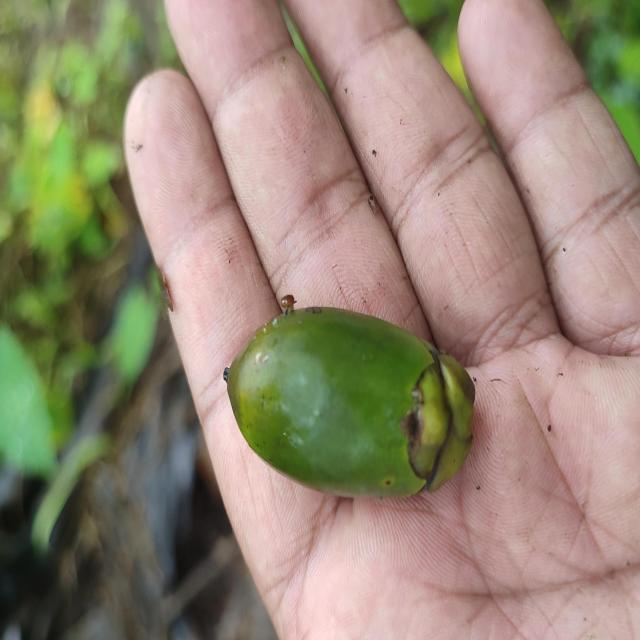damaged: (224, 308, 476, 501)
